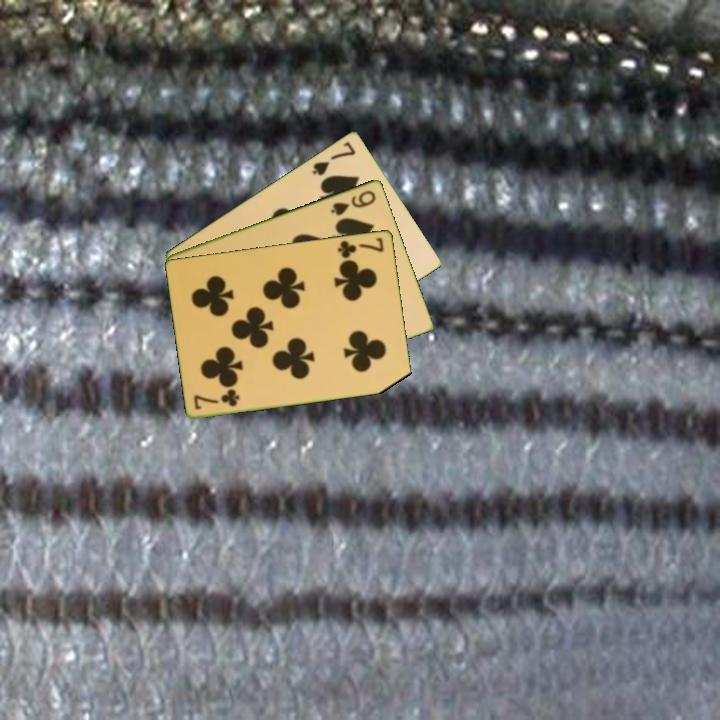7c: (334, 234, 387, 261), (191, 386, 243, 412)
7s: (308, 138, 359, 178)
9s: (327, 186, 379, 218)
